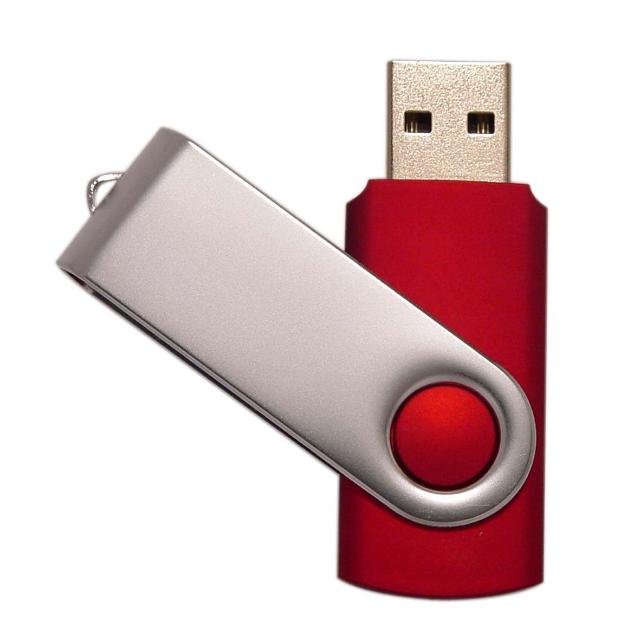USB-Flash-Drive: (48, 47, 582, 631)
